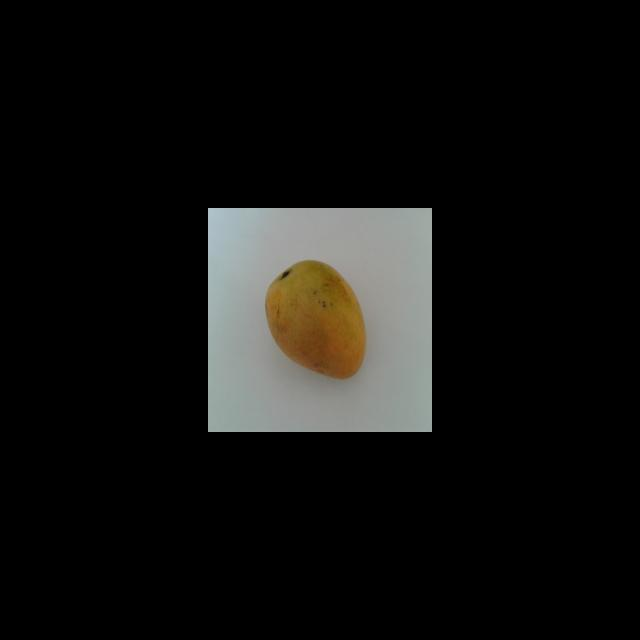Mango: (264, 259, 366, 379)
